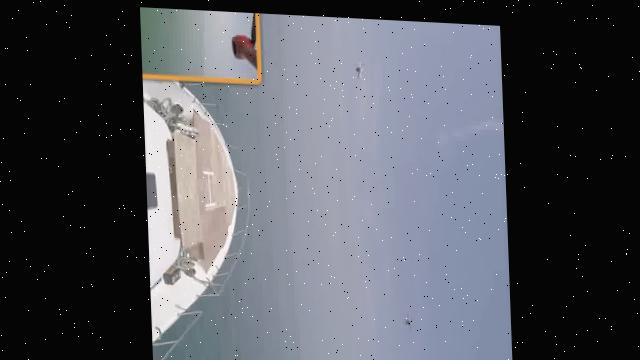drone: (395, 299, 420, 333), (352, 55, 371, 78)
